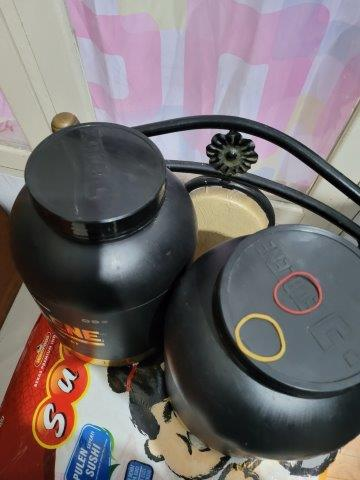karet: (233, 314, 288, 362), (270, 271, 323, 316)
